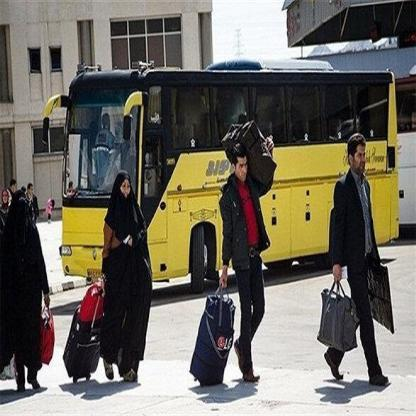Bus: (52, 58, 404, 284)
